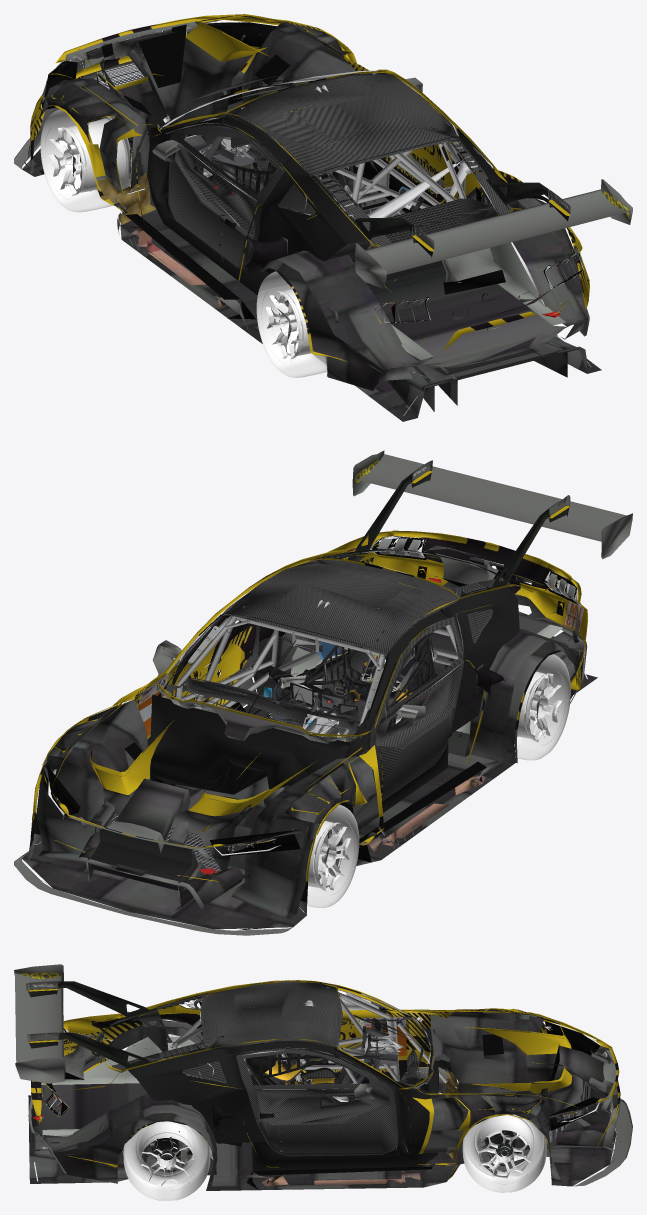
3 renders of one model, top to bottom at view 1: azimuth 30°, elevation 25°; view 2: azimuth 150°, elevation 25°; view 3: azimuth 270°, elevation 25°, orthographic. The views are drawn at different scales.
Visible parts, largest first — view 1: body, wheel-front-left, wheel-back-left; view 2: body, wheel-back-left, wheel-front-left; view 3: body, wheel-back-right, wheel-front-right.
Part boxes in pixels (x1=…): body: x1=14, y1=14, x2=632, y2=421; wheel-front-left: x1=40, y1=109, x2=131, y2=212; wheel-back-left: x1=256, y1=271, x2=327, y2=377; body: x1=14, y1=450, x2=632, y2=935; wheel-back-left: x1=514, y1=654, x2=570, y2=760; wheel-front-left: x1=307, y1=804, x2=359, y2=907; body: x1=14, y1=964, x2=632, y2=1190; wheel-back-right: x1=123, y1=1121, x2=210, y2=1200; wheel-front-right: x1=462, y1=1114, x2=546, y2=1192.
Bounding box in the file's own units: 1.98 × 1.29 × 4.79.
36 materials, 32 textured.
